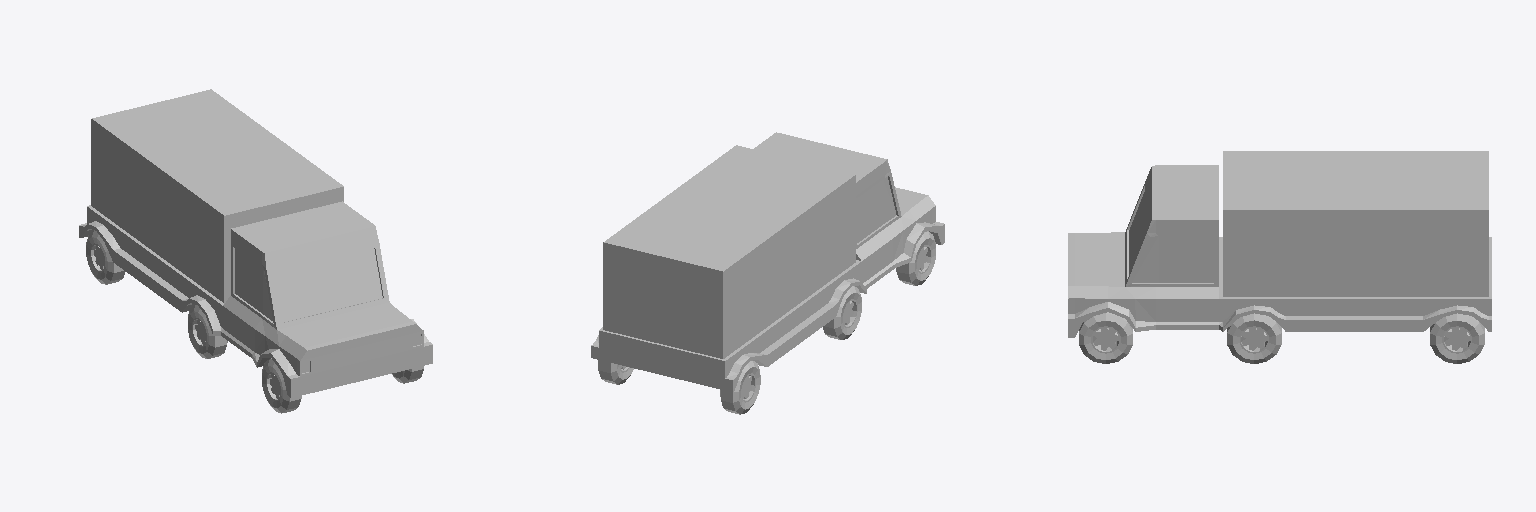
The model's file is truck_02.obj.
The picture shows the model from 3 angles: view 1: azimuth 30°, elevation 25°; view 2: azimuth 150°, elevation 25°; view 3: azimuth 270°, elevation 25°; orthographic projection.
Parts seen in each view (by area): view 1: truck_Cube.001; view 2: truck_Cube.001; view 3: truck_Cube.001.
Part boxes in pixels (left/top/right/bottom): truck_Cube.001: left=79, top=89, right=432, bottom=413; truck_Cube.001: left=591, top=132, right=944, bottom=414; truck_Cube.001: left=1068, top=151, right=1491, bottom=363.
Size of the model in its own units: 1.99 by 2.02 by 5.14.